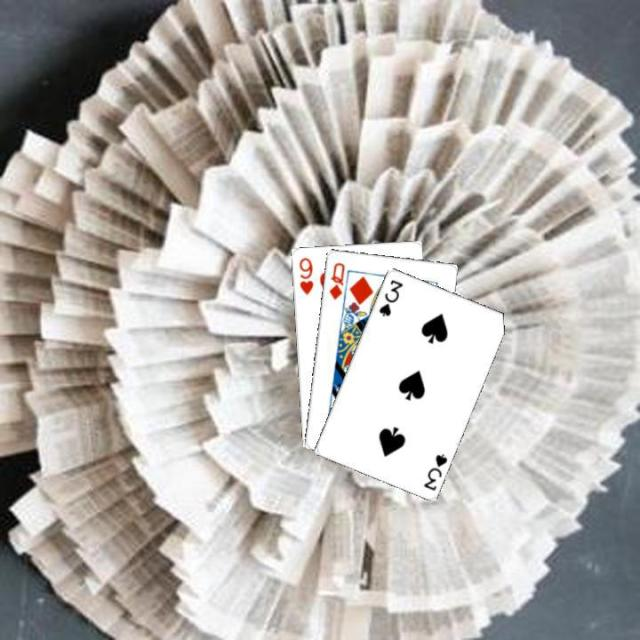3S: (375, 276, 405, 318), (419, 450, 449, 492)
9H: (294, 253, 315, 296)
QD: (324, 258, 346, 301)
